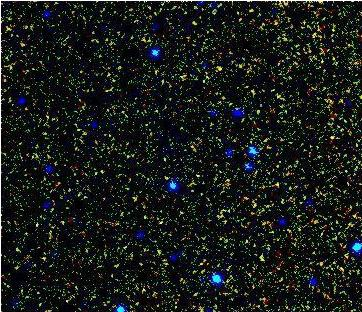star: (203, 48, 233, 78)
